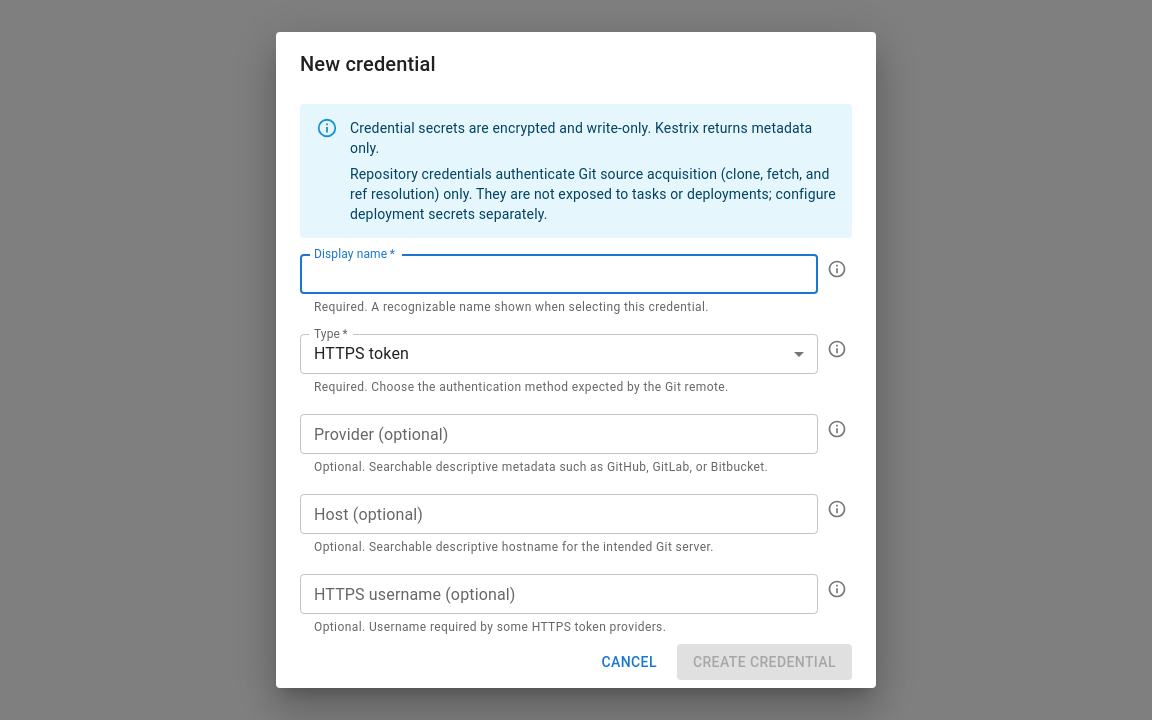
Scenario: CredentialFormDialog › warns on a short runtime-secret value and clears the warning at the 8-character boundary
Step 1. Click the dropdown named "Type" → (362, 354), box [314,344,409,364]
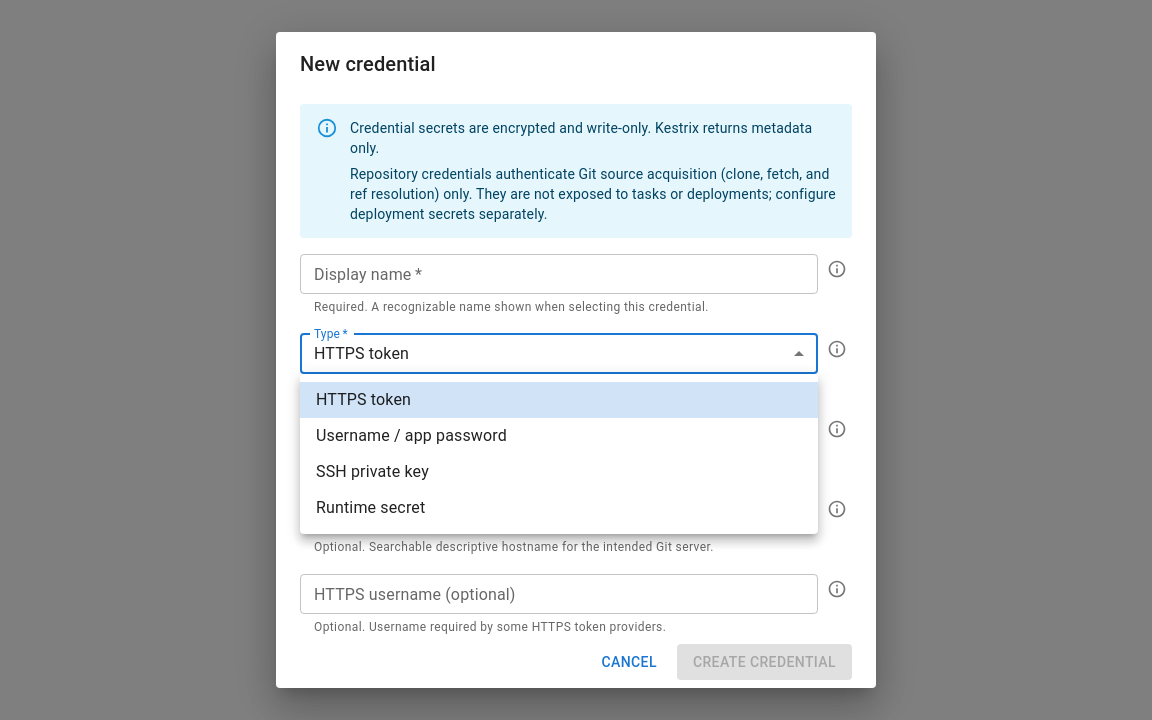
Step 2. Click the option "Runtime secret" → (371, 508), box [316,498,425,517]
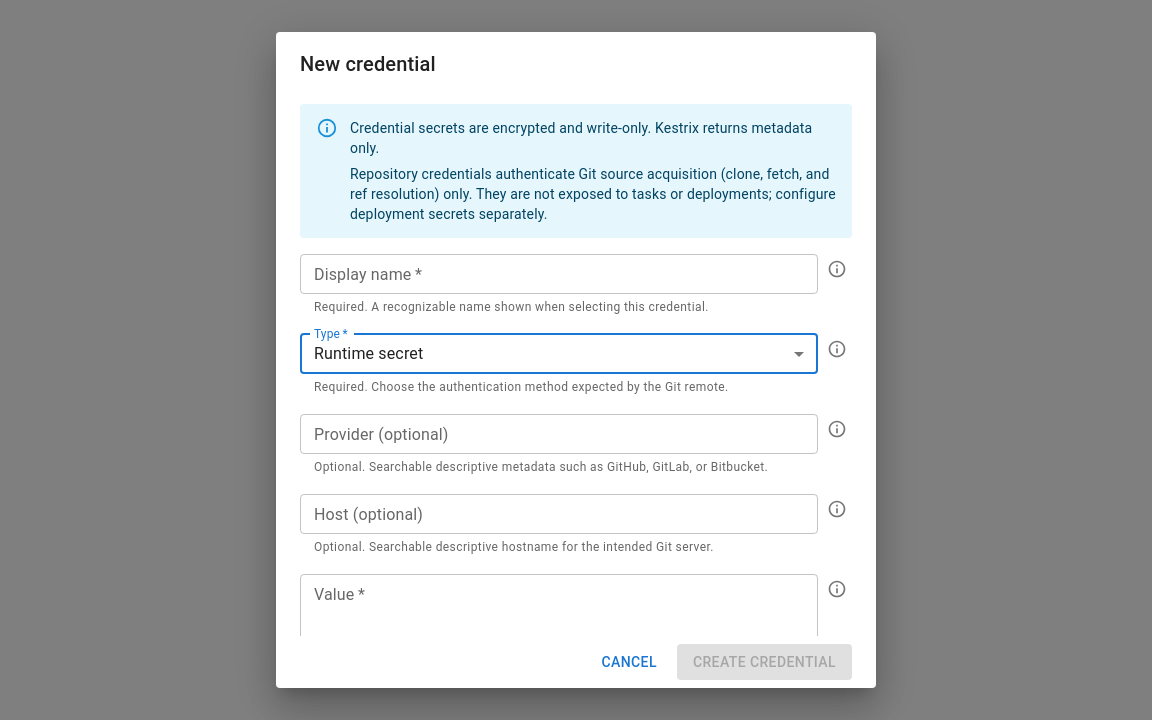
expect the text "not guaranteed to be" is not shown: met
Step 3. Type "1234567" into the text box labelled "Value *" → (559, 617), box [314,582,804,651]
(page scrolled)
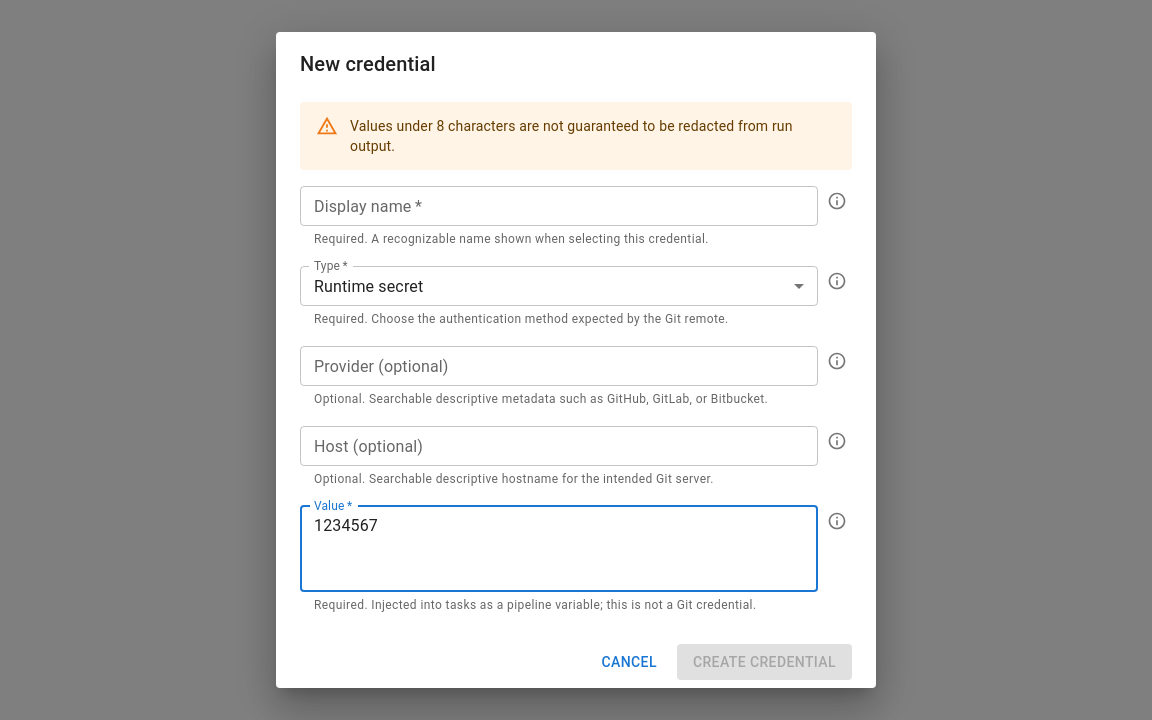
expect the text "not guaranteed to be" is shown: met, box [350,118,792,154]
Step 4. Type "8" into the text box labelled "Value *" → (559, 549), box [314,514,804,583]
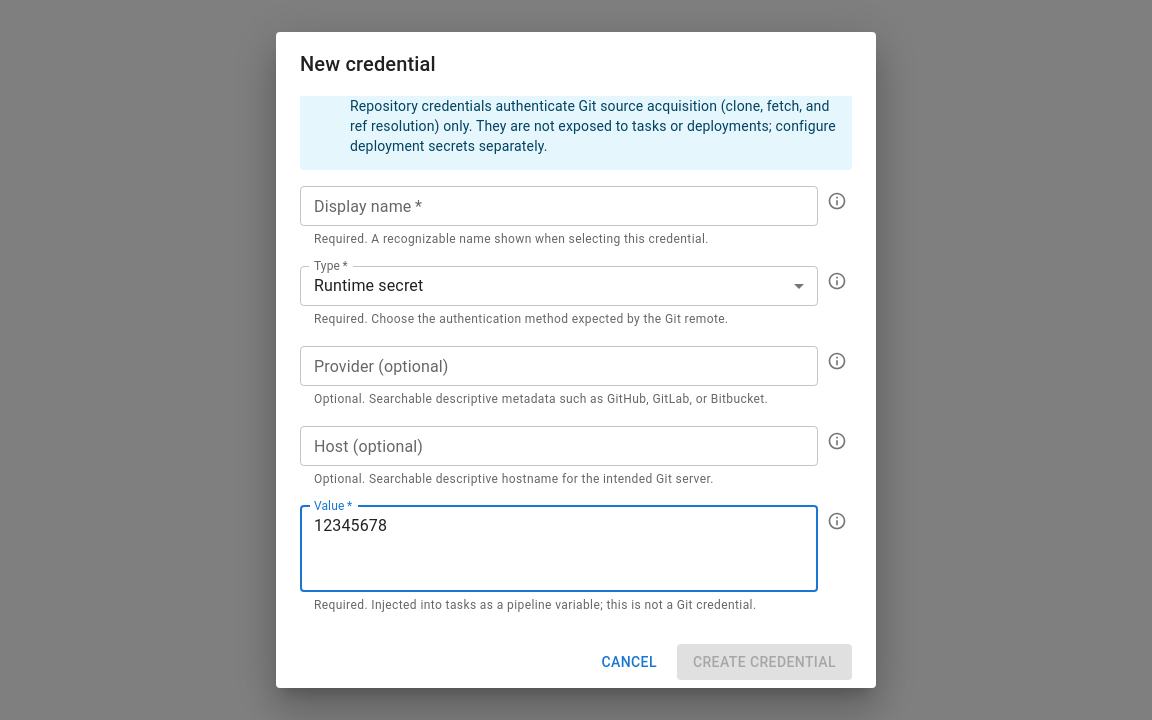
expect the text "not guaranteed to be" is gone: met
